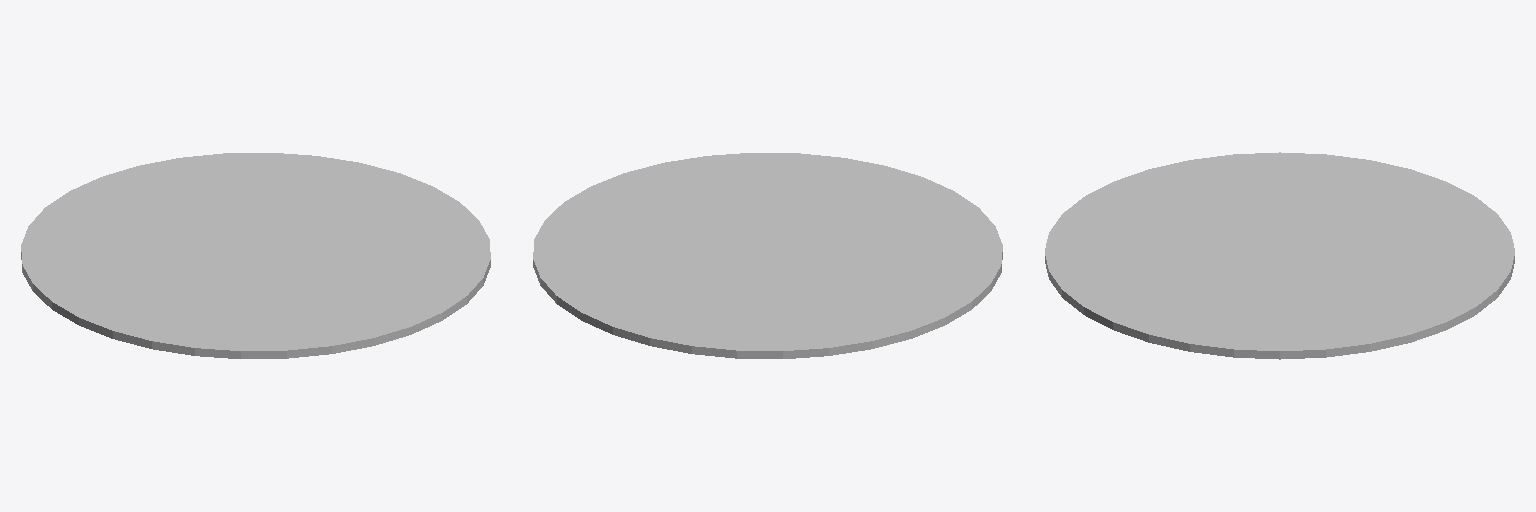
File: pen_ground.obj
3 renders of one model, left to right at view 1: azimuth 30°, elevation 25°; view 2: azimuth 150°, elevation 25°; view 3: azimuth 270°, elevation 25°, orthographic.
Visible parts, largest first — view 1: Cylinder.001_Cylinder; view 2: Cylinder.001_Cylinder; view 3: Cylinder.001_Cylinder.
Part boxes in pixels (left/top/right/bottom): Cylinder.001_Cylinder: left=21, top=153, right=490, bottom=358; Cylinder.001_Cylinder: left=533, top=153, right=1002, bottom=358; Cylinder.001_Cylinder: left=1045, top=152, right=1514, bottom=359.
Bounding box in the file's own units: 9.37 × 0.1776 × 9.37.